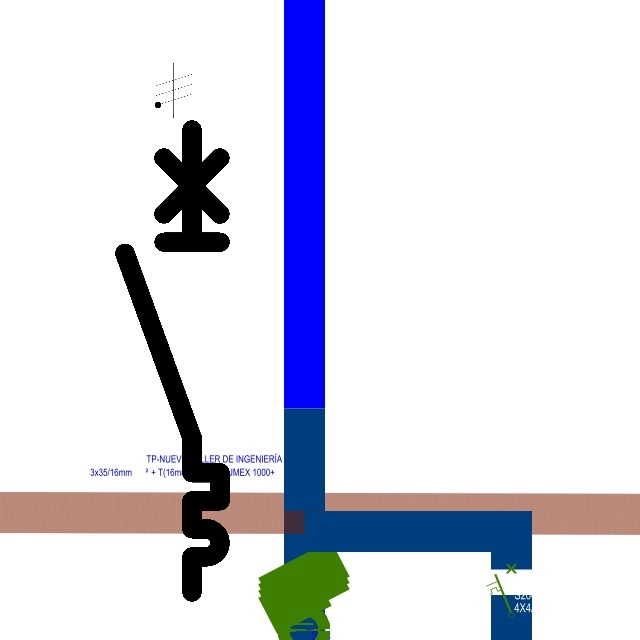interruptor_termomagnetico: (113, 117, 232, 603)
